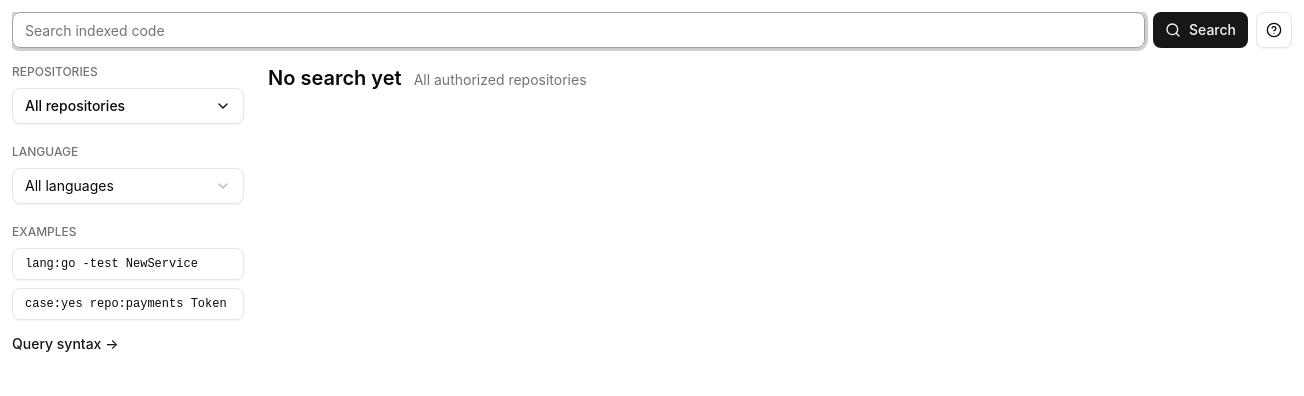
SearchPage › makes paths non-interactive in static mode and keeps only the outbound link
Type "New" into the search field named "Search code" at [578, 30], box [12,12,1145,48]
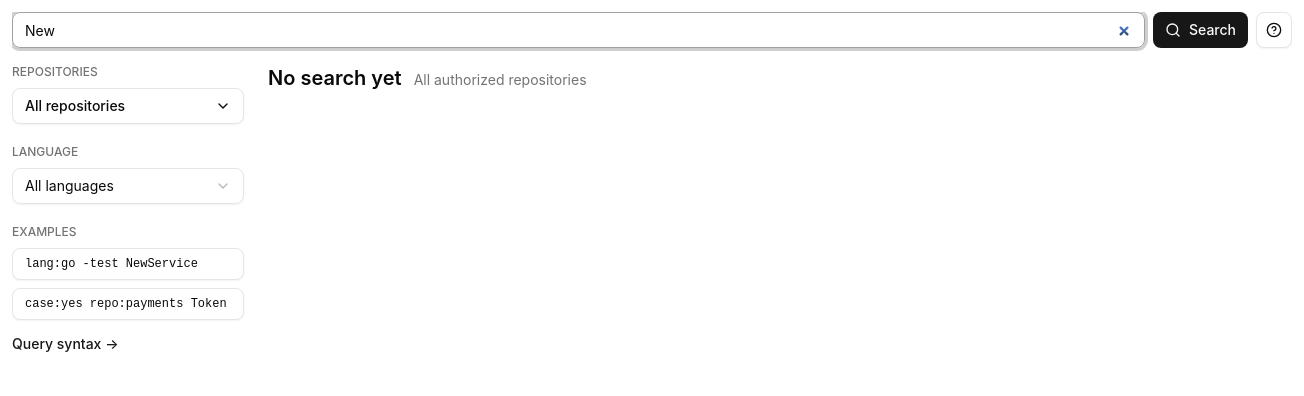
Click the button "Search" at [1200, 30], box [1153,12,1248,48]
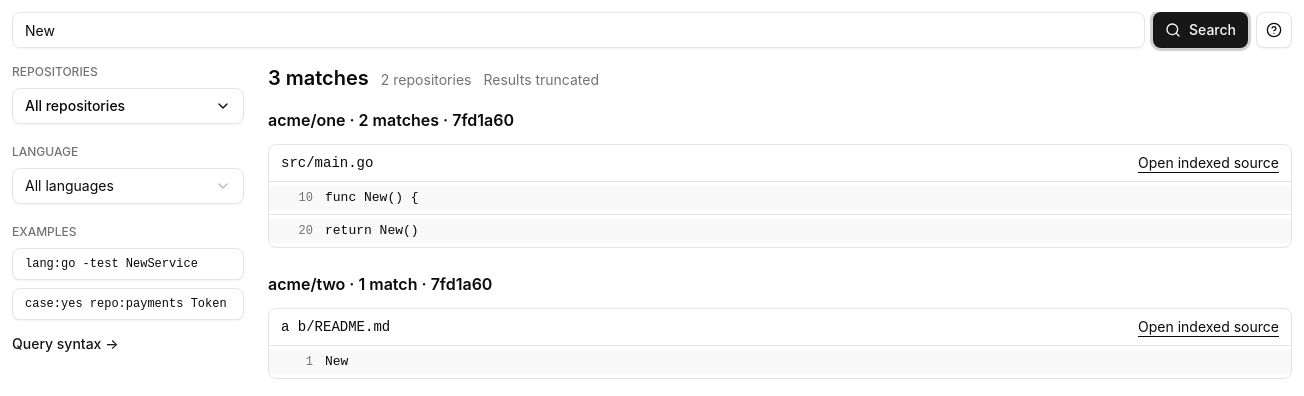
Check: the heading "a b/README.md" is shown, box [281,317,390,337]
